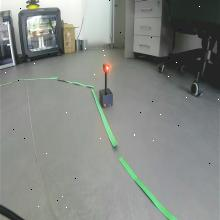red: (103, 63, 109, 73)
